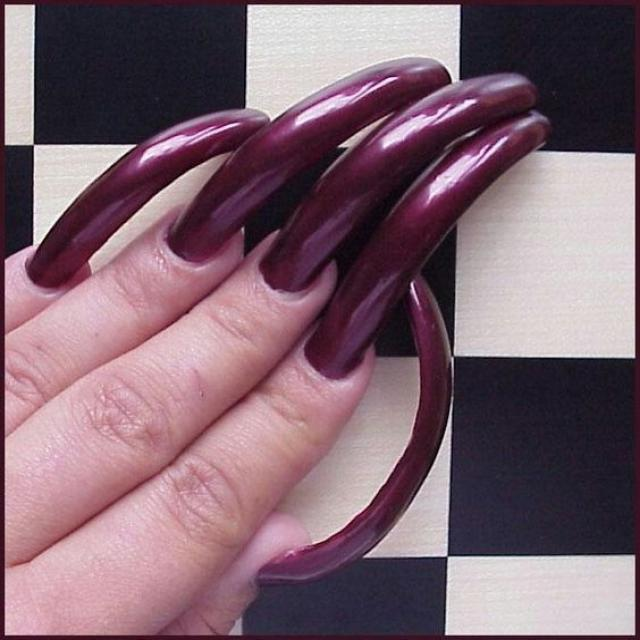Fingernail: (305, 108, 552, 380), (254, 274, 452, 586), (259, 72, 539, 292), (165, 57, 451, 263), (27, 109, 270, 288)
